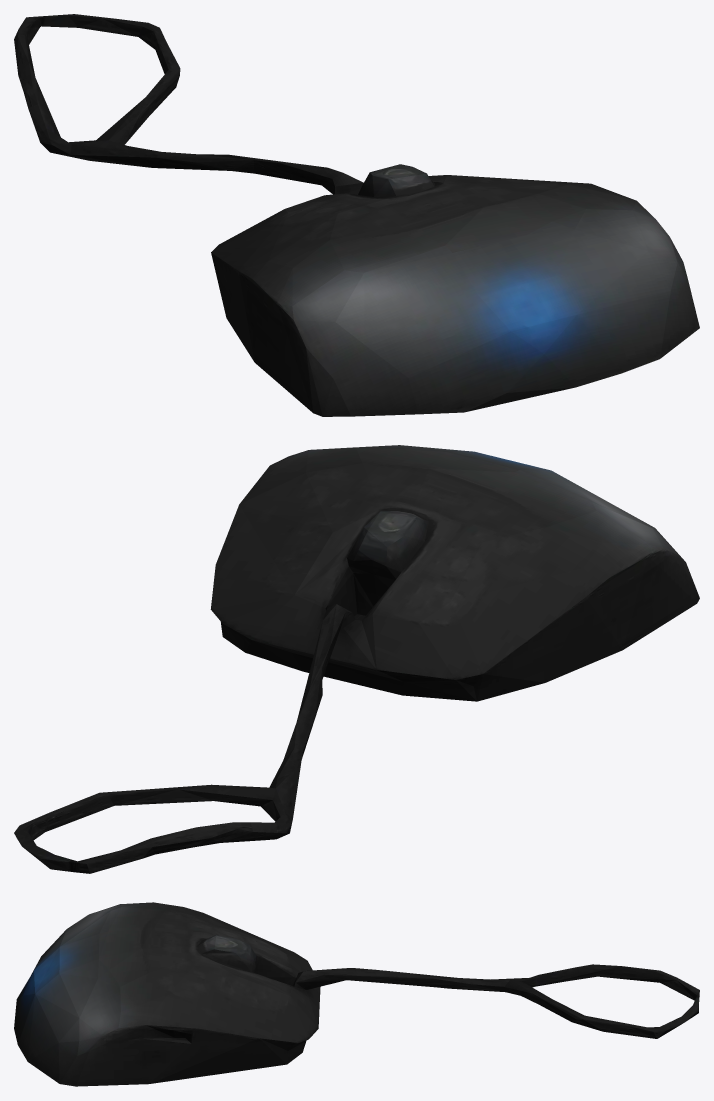
Rendered from mouse-computer.glb.
The picture shows the model from 3 angles, top to bottom: view 1: azimuth 30°, elevation 25°; view 2: azimuth 150°, elevation 25°; view 3: azimuth 270°, elevation 25°; orthographic projection. The views are drawn at different scales.
Parts seen in each view (by area): view 1: geometry_0; view 2: geometry_0; view 3: geometry_0.
Part boxes in pixels (x1,y1,x2,y2): geometry_0: (14,14,699,416); geometry_0: (14,445,699,873); geometry_0: (14,902,699,1086).
Size of the model in its own units: 0.4541 by 0.1361 by 0.9994.
1 material, 1 textured.
